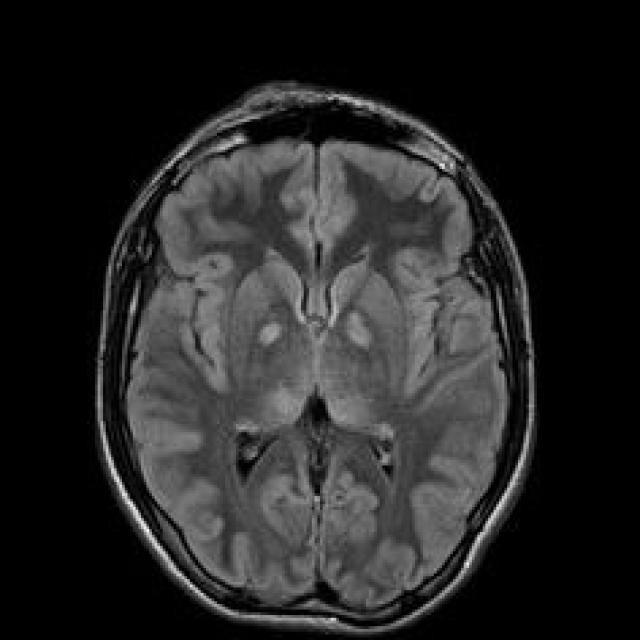No_Tumor: (96, 82, 534, 635)
